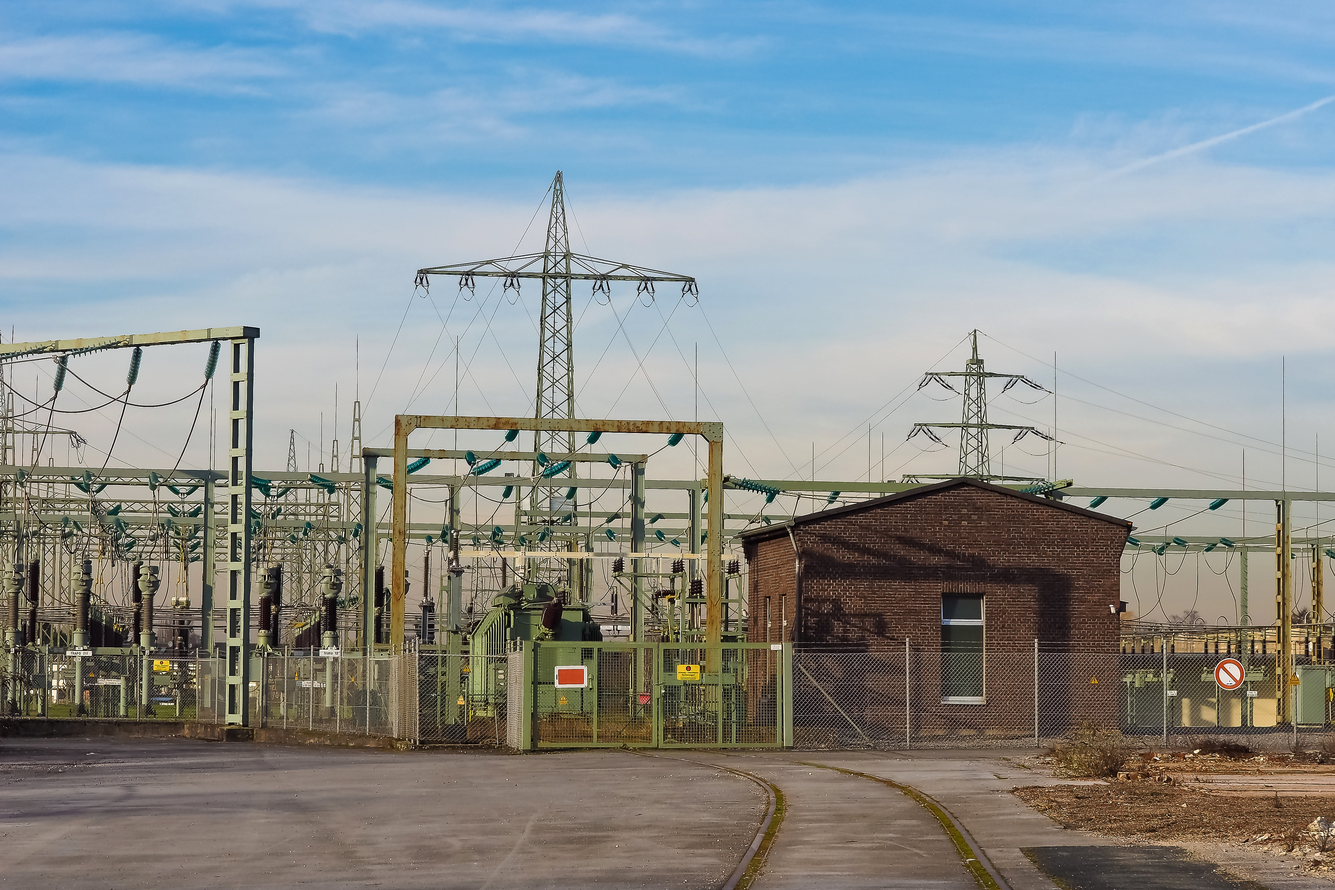insulator: (201, 342, 225, 385), (125, 339, 143, 395), (51, 353, 73, 397)
